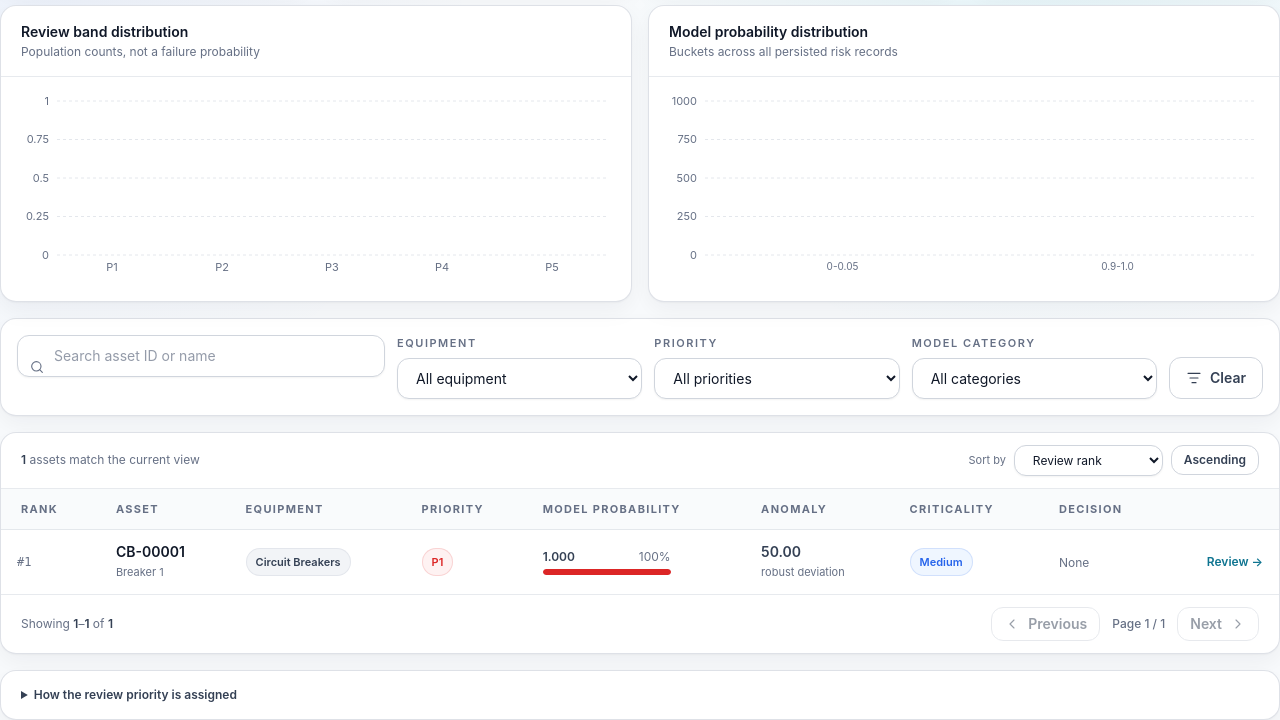
lists ranked risk and opens the explanation drawer
(page scrolled)
Click the text "CB-00001". click: (150,552)
box: [116, 543, 185, 560]
(page scrolled)
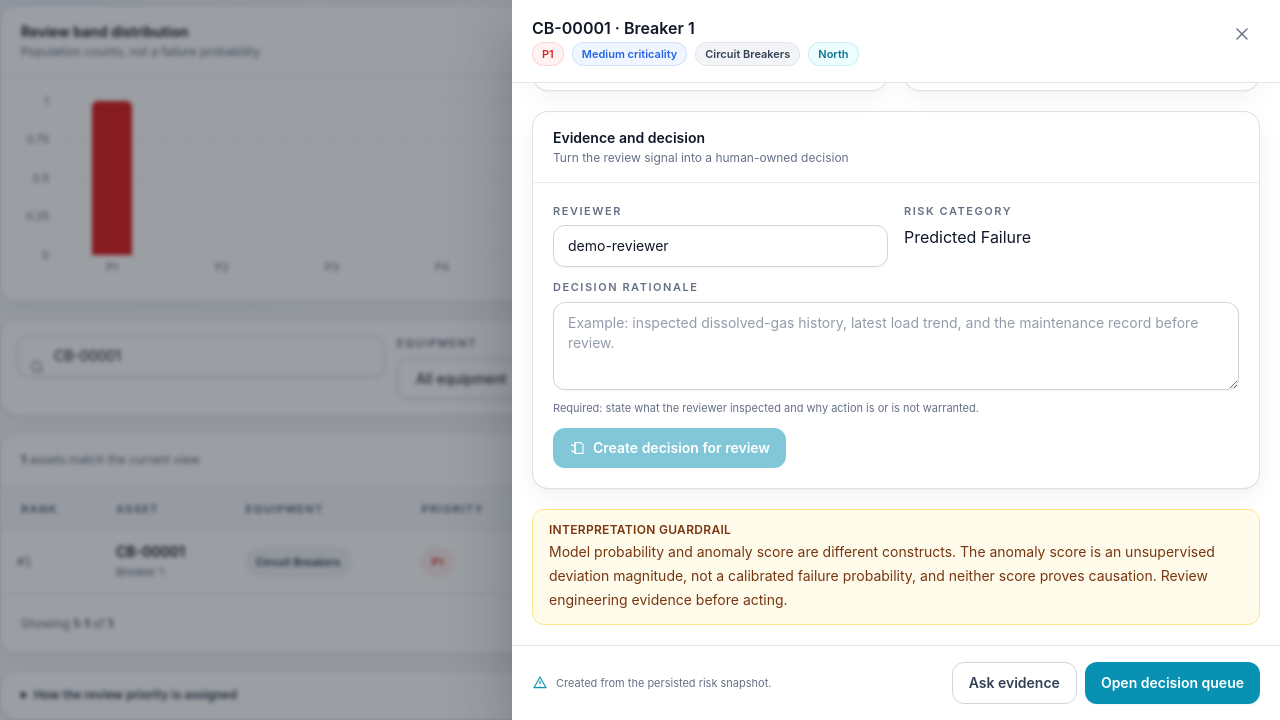
Check: the button "Create decision for review" is disabled, box [553, 428, 786, 468]
